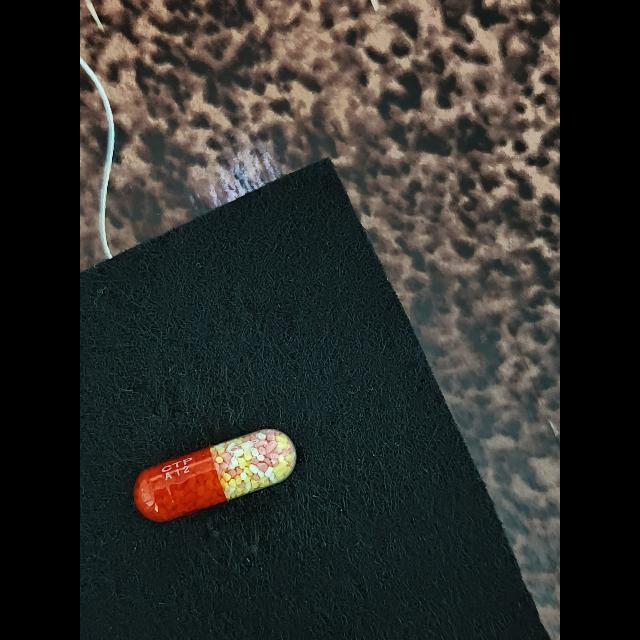Intact Capsule: (133, 429, 296, 522)
